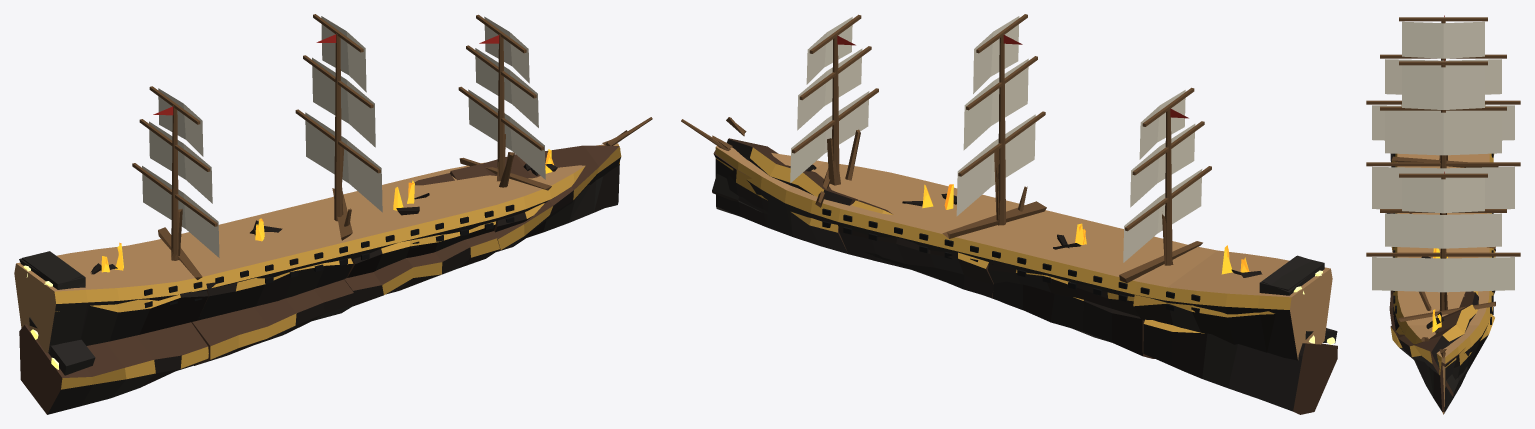
File: ship_s4.glb
The picture shows the model from 3 angles, left to right: view 1: azimuth 30°, elevation 25°; view 2: azimuth 150°, elevation 25°; view 3: azimuth 270°, elevation 25°; orthographic projection. The views are drawn at different scales.
Parts seen in each view (by area): view 1: sunk, seg0, seg2, seg3, seg1, seg0_broken, seg1_broken, seg2_broken, seg3_broken; view 2: sunk, seg0, seg2, seg3, seg1, seg0_broken, seg2_broken, seg3_broken, seg1_broken; view 3: seg3, seg2, seg0, sunk, seg3_broken, seg0_broken, seg1.
Boxes of the visible parts, <box> form: sunk: <box>19,130,629,414</box>; seg0: <box>14,86,219,353</box>; seg2: <box>295,14,498,261</box>; seg3: <box>448,14,652,222</box>; seg1: <box>156,204,353,288</box>; seg0_broken: <box>19,209,208,352</box>; seg1_broken: <box>197,218,353,320</box>; seg2_broken: <box>332,147,495,277</box>; seg3_broken: <box>459,134,620,239</box>; sunk: <box>712,117,1337,414</box>; seg0: <box>1123,87,1332,360</box>; seg2: <box>838,14,1045,261</box>; seg3: <box>681,14,889,236</box>; seg1: <box>986,210,1187,301</box>; seg0_broken: <box>1119,214,1321,352</box>; seg2_broken: <box>838,149,1046,284</box>; seg3_broken: <box>708,135,848,253</box>; seg1_broken: <box>988,223,1139,316</box>; seg3: <box>1366,171,1520,414</box>; seg2: <box>1366,59,1520,314</box>; seg0: <box>1366,15,1520,167</box>; sunk: <box>1386,153,1478,396</box>; seg3_broken: <box>1393,292,1495,411</box>; seg0_broken: <box>1391,154,1498,167</box>; seg1: <box>1393,166,1493,214</box>.
Bounding box in the file's own units: 4.01 × 1.88 × 0.9234.
